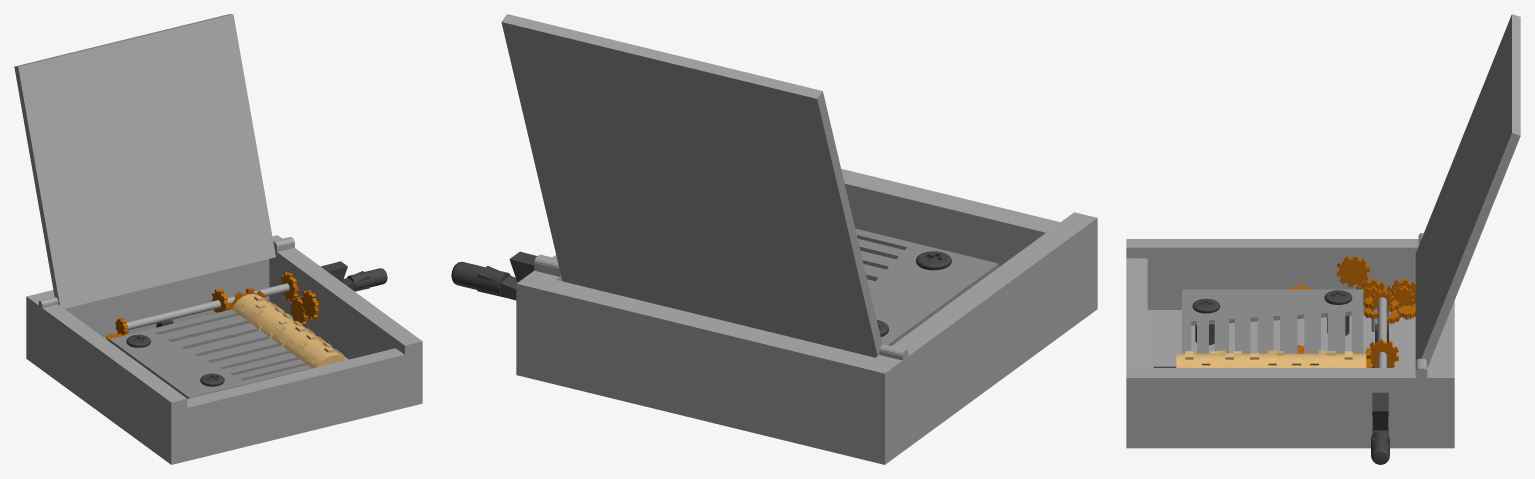
Rendered from scene_teste_1.fbx.
3 views of the same model, side by side, from view 1: azimuth 30°, elevation 25°; view 2: azimuth 150°, elevation 25°; view 3: azimuth 270°, elevation 25° (orthographic). The views are drawn at different scales.
Parts seen in each view (by area): view 1: couvercle, boite, palette, cylindre, pCylinder1, poignée; view 2: couvercle, boite, palette, poignée; view 3: boite, couvercle, palette, cylindre, poignée, visse_2 (×2), rouage_16, pCylinder1, rouage_12.
Part boxes in pixels (x1,y1,x2,y2): couvercle: [14, 14, 275, 308]; boite: [26, 235, 422, 464]; palette: [109, 309, 311, 398]; cylindre: [232, 294, 346, 368]; pCylinder1: [126, 283, 289, 330]; poignée: [320, 261, 387, 291]; couvercle: [501, 14, 882, 357]; boite: [516, 169, 1097, 464]; palette: [855, 228, 998, 345]; poignée: [451, 251, 537, 300]; boite: [1126, 233, 1454, 448]; couvercle: [1415, 14, 1520, 367]; palette: [1182, 289, 1363, 353]; cylindre: [1176, 350, 1366, 367]; poignée: [1371, 392, 1389, 464]; visse_2 (×2): [1192, 290, 1352, 345]; rouage_16: [1336, 255, 1369, 287]; pCylinder1: [1377, 297, 1386, 367]; rouage_12: [1365, 339, 1398, 367].
Size of the model in its own units: 4538 by 3586 by 4203.
